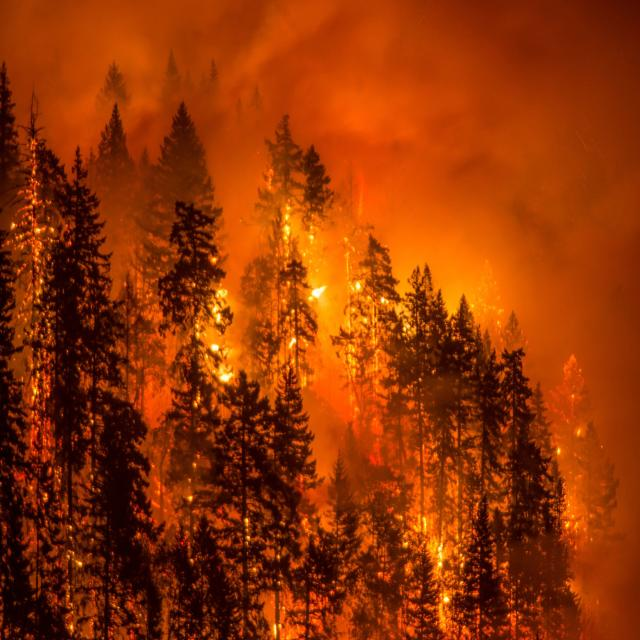Fire: (16, 150, 85, 628), (168, 227, 239, 449), (329, 218, 405, 414), (253, 198, 318, 407), (389, 496, 474, 627)
Smoke: (266, 21, 634, 479)
